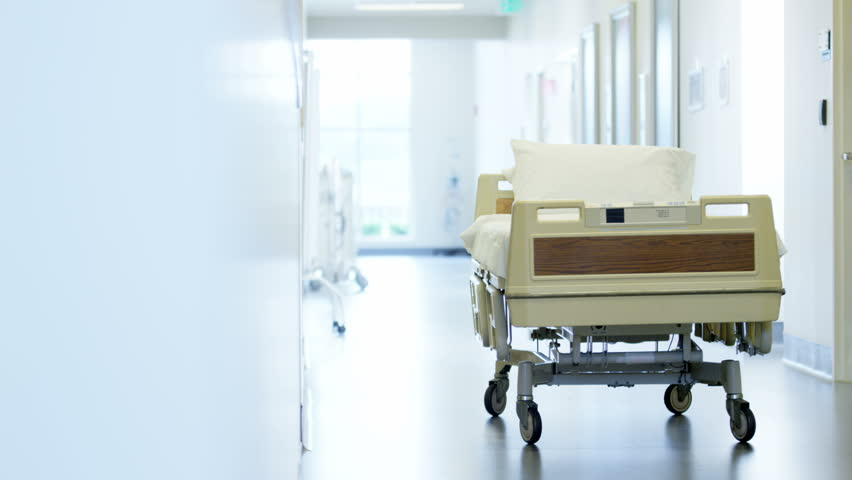hospital bed: (435, 131, 794, 345)
